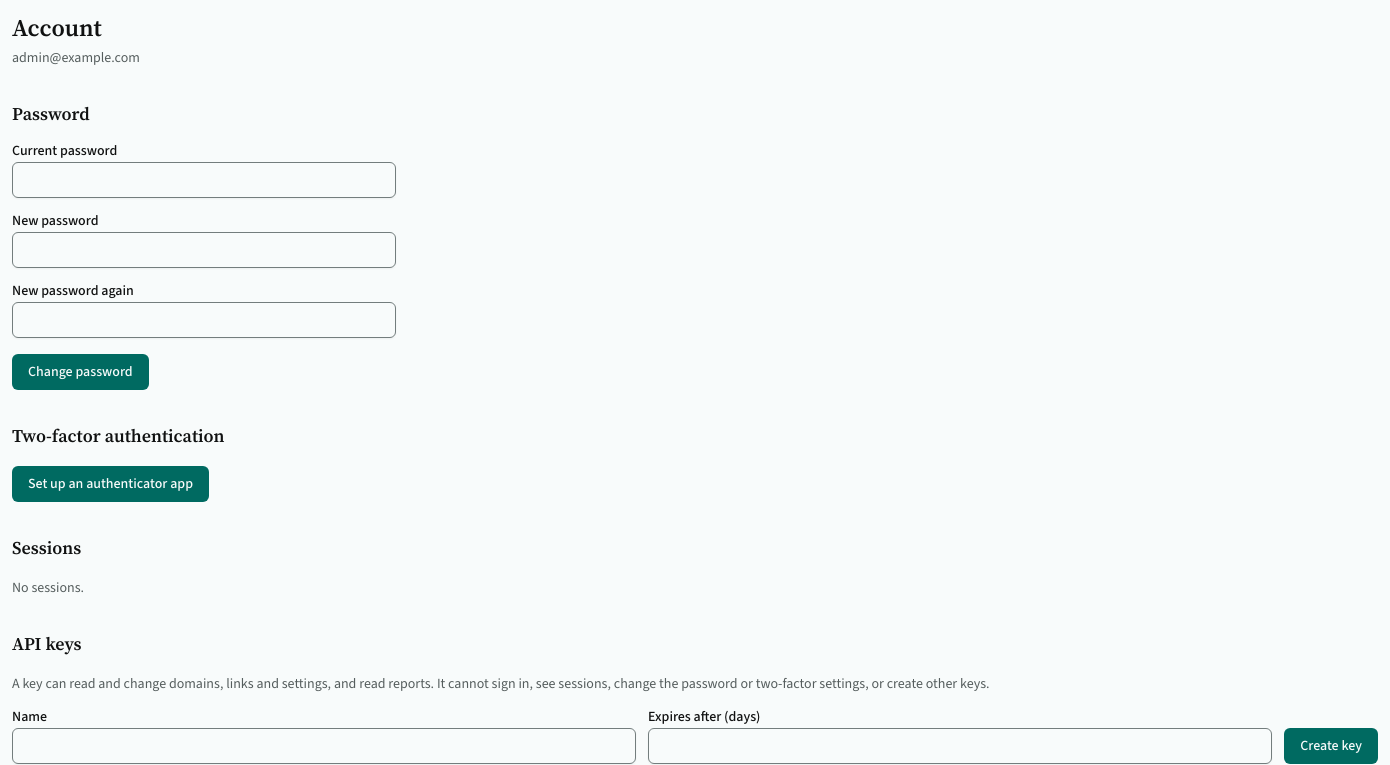
the account screen › refuses mismatched new passwords before sending anything
The width and height of the screenshot is (1390, 765).
Type "the old one" into the password field labelled "Current password" at (204,180), box [12, 162, 396, 198]
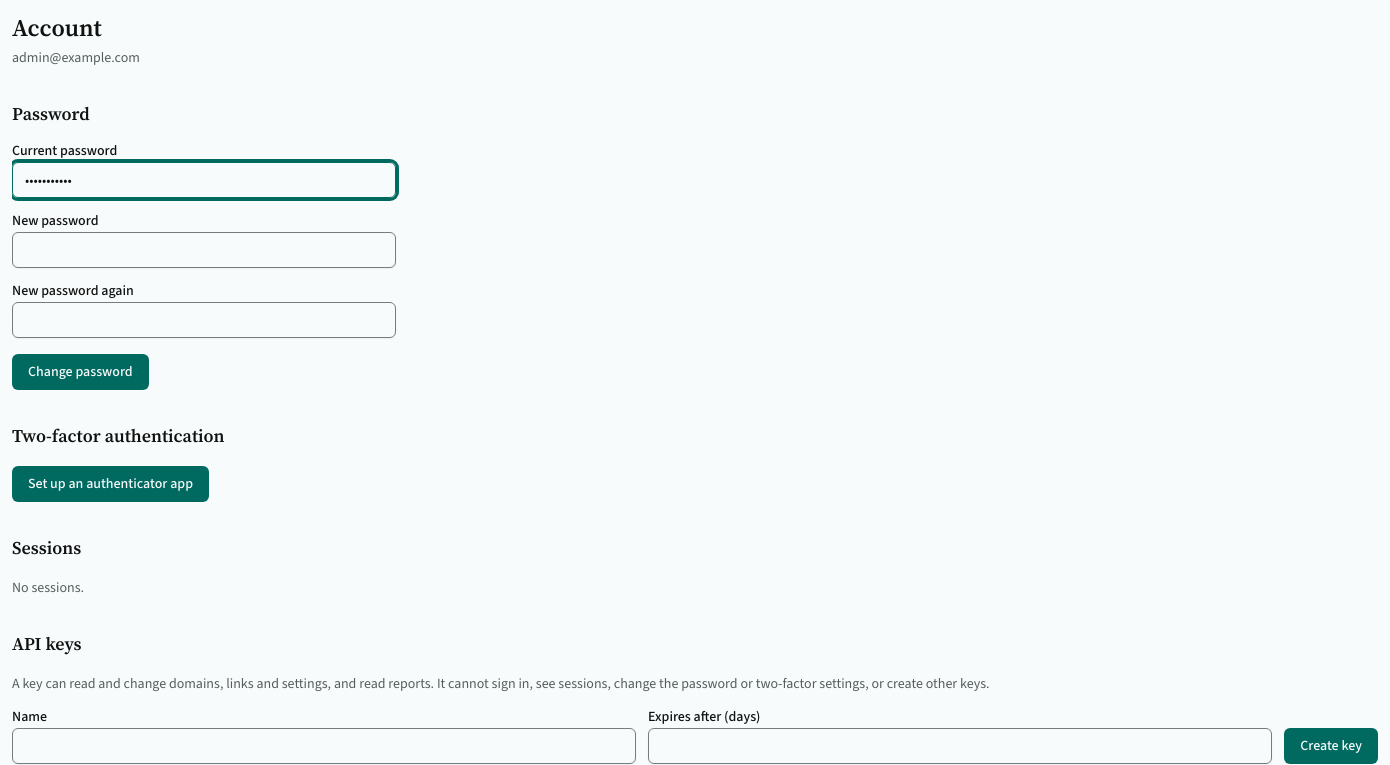
Type "a new decent password" into the password field labelled "New password" at (204,250), box [12, 232, 396, 268]
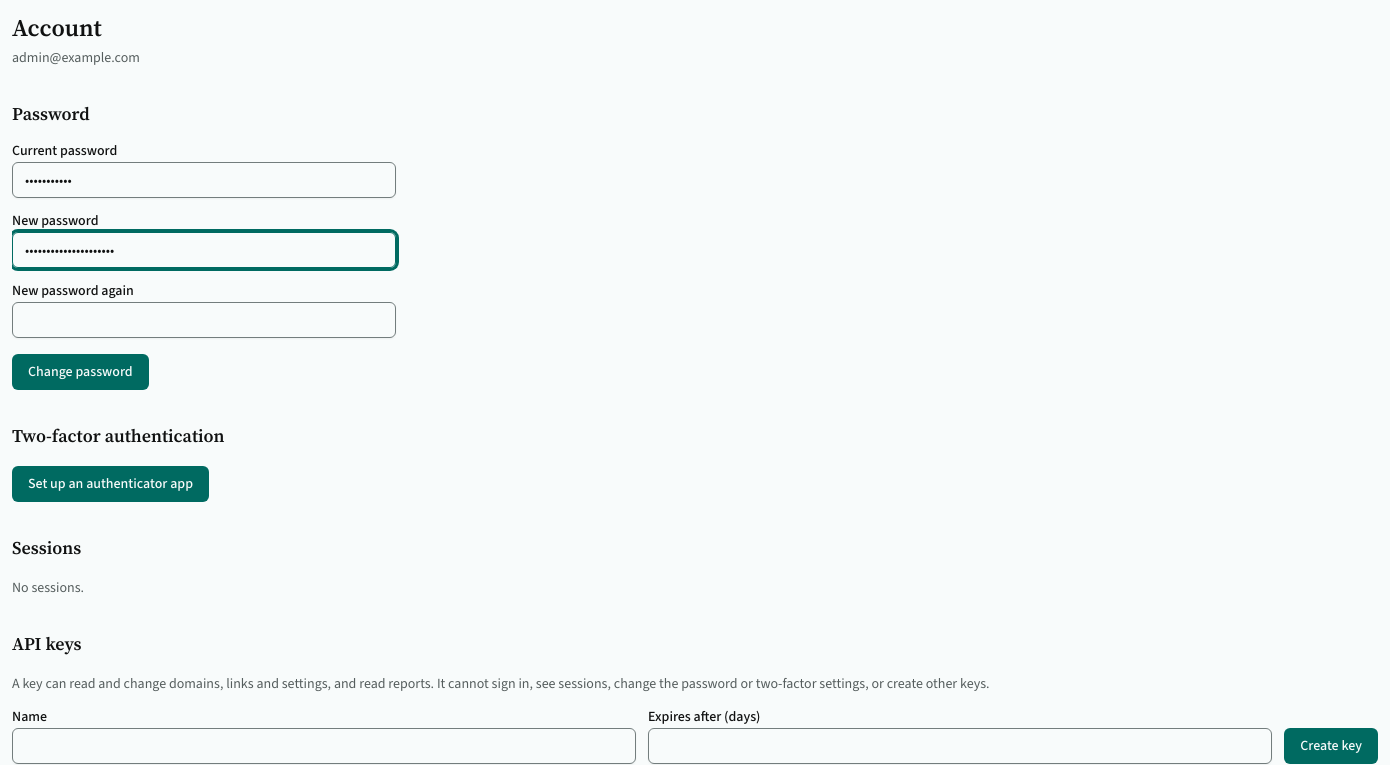
Type "a different decent password" into the password field labelled "New password again" at (204,320), box [12, 302, 396, 338]
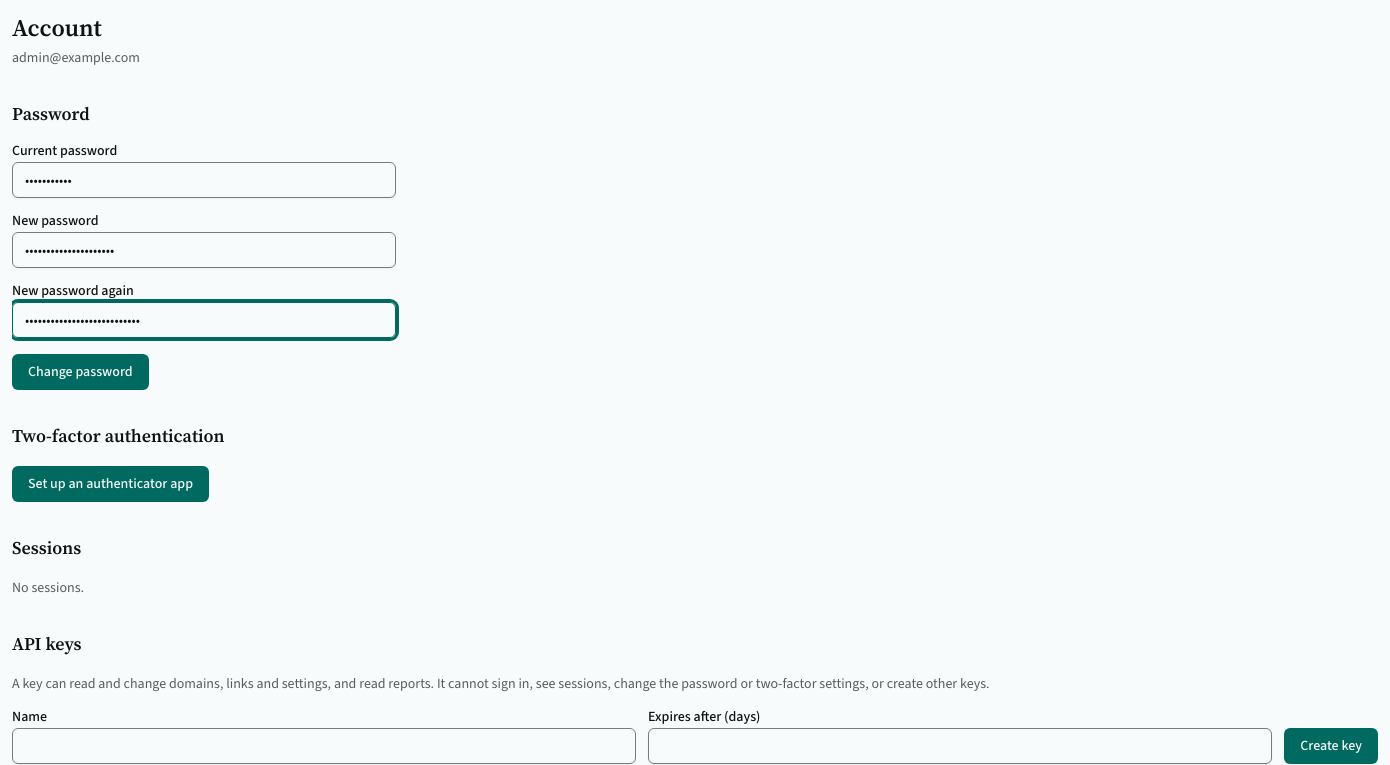
Click the button "Change password" at (80,372), box [12, 354, 149, 390]
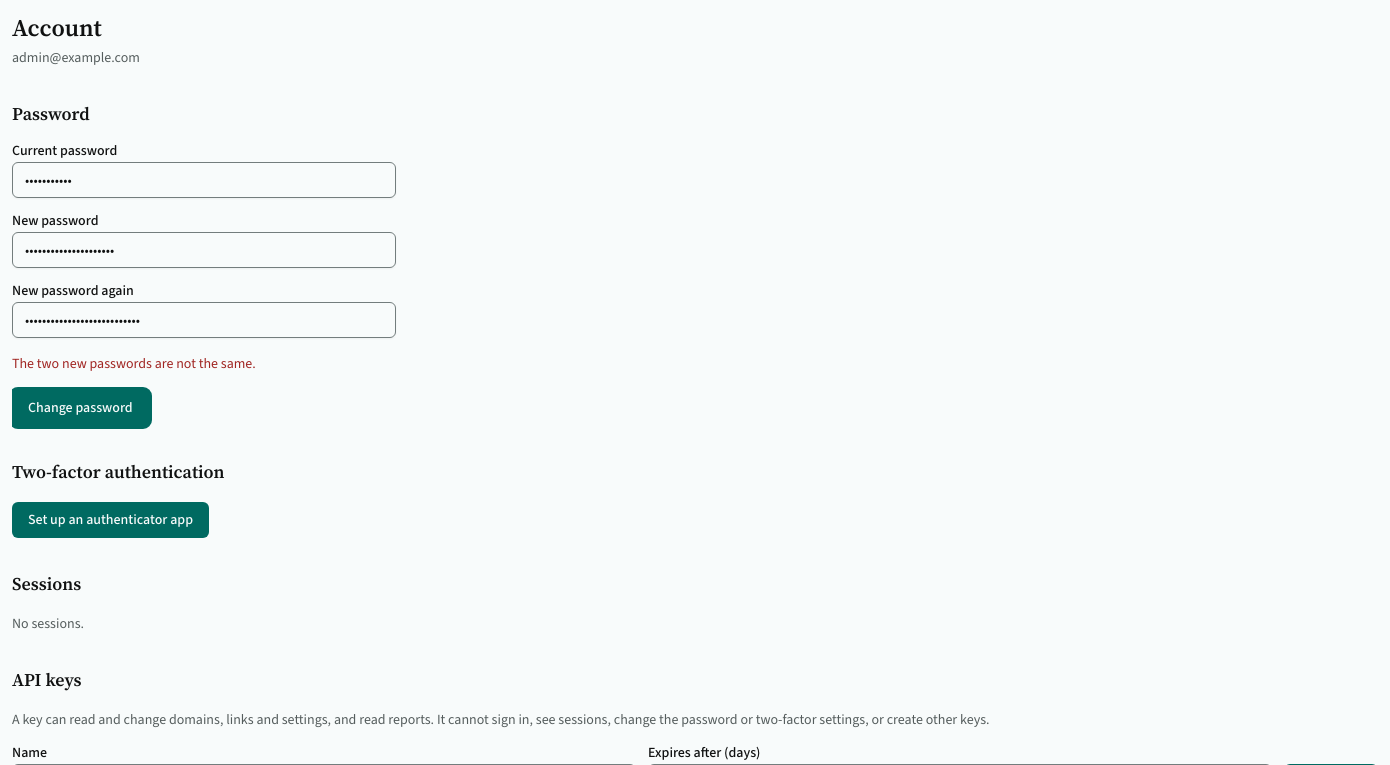
Expected: the text "The two new passwords are not the same." is shown, [12, 354, 256, 373]
